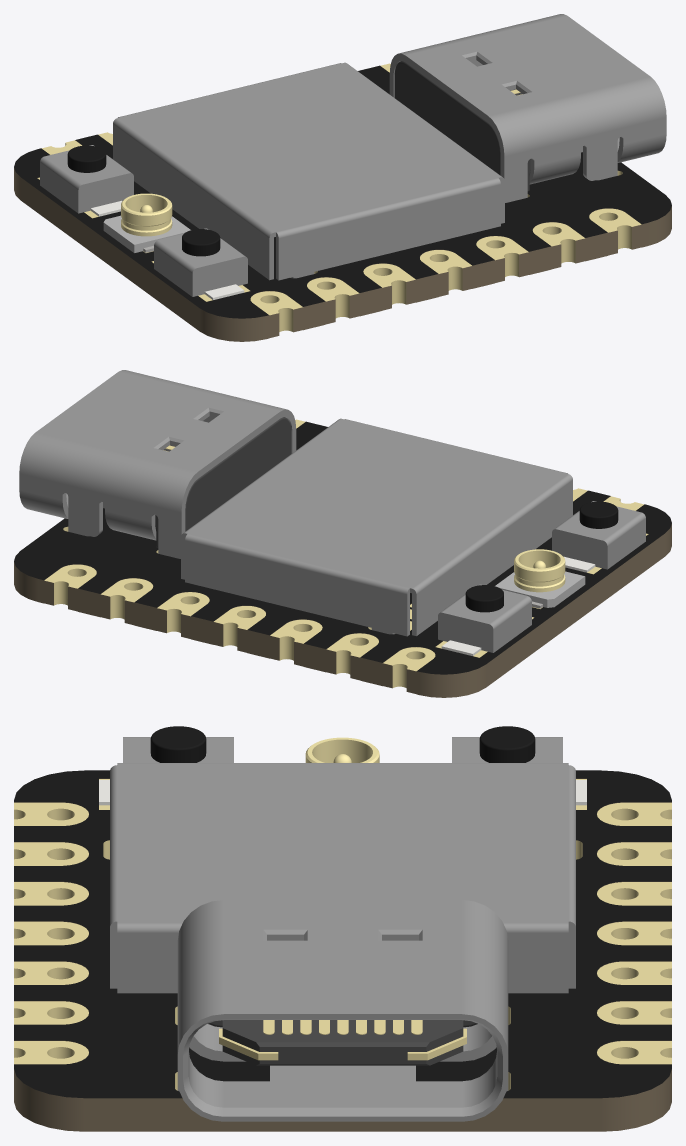
3 renders of one model, top to bottom at view 1: azimuth 30°, elevation 25°; view 2: azimuth 150°, elevation 25°; view 3: azimuth 270°, elevation 25°, orthographic. The views are drawn at different scales.
Parts seen in each view (by area): view 1: Body1:26, Body1:28, Body1:18, Body1:27, Body1:25, Body1:22, Body1:24; view 2: Body1:26, Body1:28, Body1:18, Body1:25, Body1:27, Body1:22, Body1:24; view 3: Body1:28, Body1:26, Body1:18, Body1:10, Body1:25, Body1:27, Body1:24.
Boxes of the visible parts, x1,y1,x2,y2 form: Body1:26: (113, 62, 504, 280); Body1:28: (14, 63, 671, 341); Body1:18: (389, 14, 666, 202); Body1:27: (154, 228, 247, 299); Body1:25: (40, 145, 133, 216); Body1:22: (394, 61, 530, 191); Body1:24: (103, 193, 190, 252); Body1:26: (181, 418, 572, 636); Body1:28: (14, 419, 671, 697); Body1:18: (19, 370, 296, 558); Body1:25: (438, 584, 531, 655); Body1:27: (552, 501, 645, 572); Body1:22: (155, 417, 291, 547); Body1:24: (495, 549, 585, 607); Body1:28: (14, 770, 671, 1131); Body1:26: (110, 763, 575, 993); Body1:18: (177, 900, 508, 1121); Body1:10: (219, 1020, 466, 1065); Body1:25: (452, 726, 586, 805); Body1:27: (99, 726, 233, 805); Body1:24: (305, 737, 379, 762).
Bounding box in the file's own units: 2.25 × 0.421 × 1.78.
